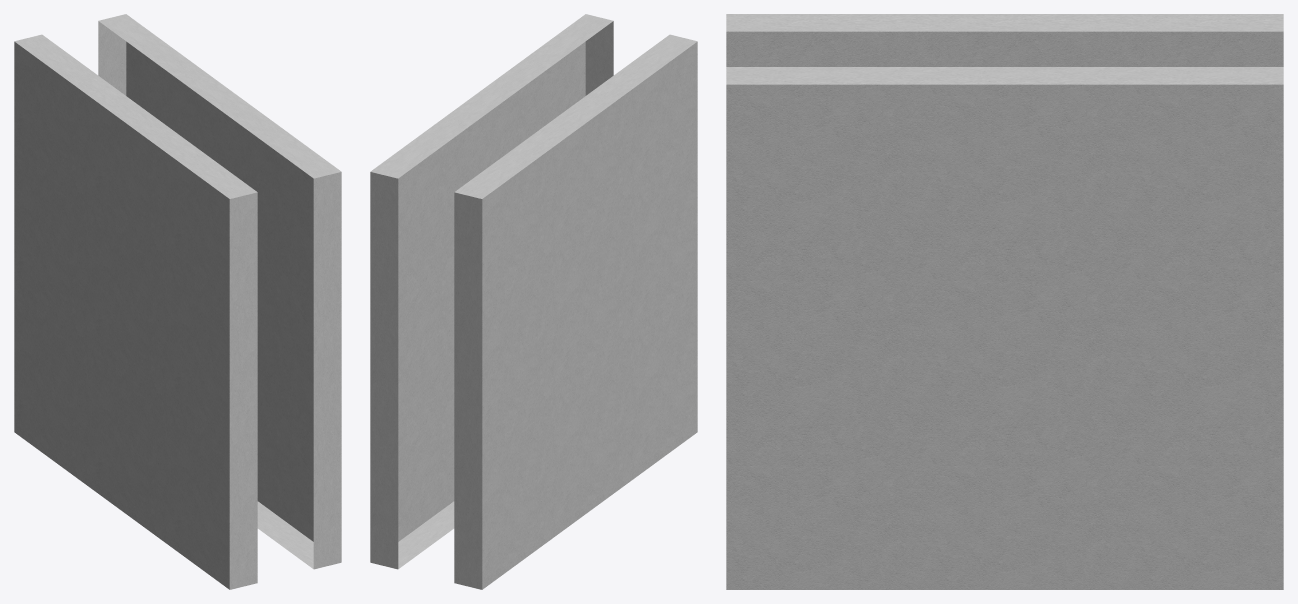
Rendered from simple wall 2x2x06 plaster.fbx.
3 views of the same model, side by side, from view 1: azimuth 30°, elevation 25°; view 2: azimuth 150°, elevation 25°; view 3: azimuth 270°, elevation 25° (orthographic). The views are drawn at different scales.
Visible parts, largest first — view 1: Cube; view 2: Cube; view 3: Cube.
Part boxes in pixels (box(x1,y1,x2,y2)): Cube: box(14, 14, 341, 589); Cube: box(370, 14, 697, 589); Cube: box(726, 14, 1283, 589).
Size of the model in its own units: 60 by 200 by 200.
